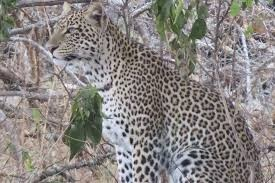leopard: (43, 1, 268, 181)
